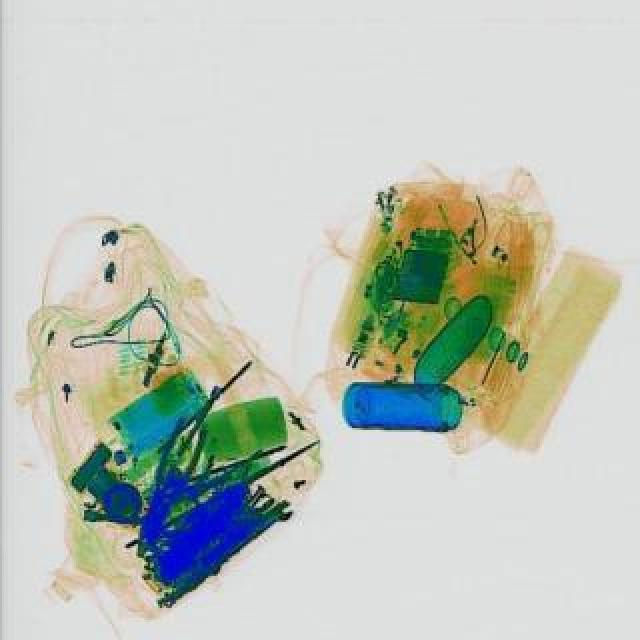scissors: (156, 494, 298, 610)
wrench: (120, 414, 212, 562)
